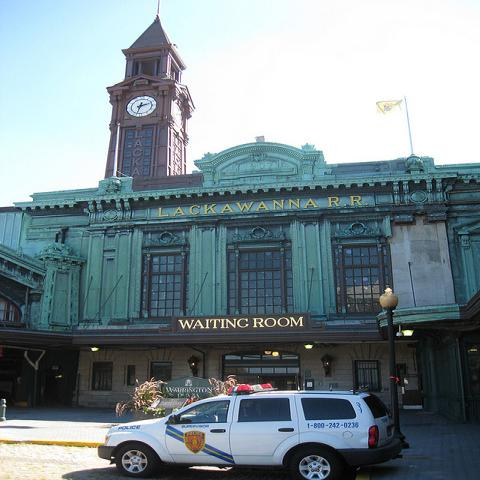car: (99, 392, 397, 480)
truck: (97, 382, 407, 480)
